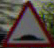Speed Breaker ahead: (5, 5, 44, 42)
